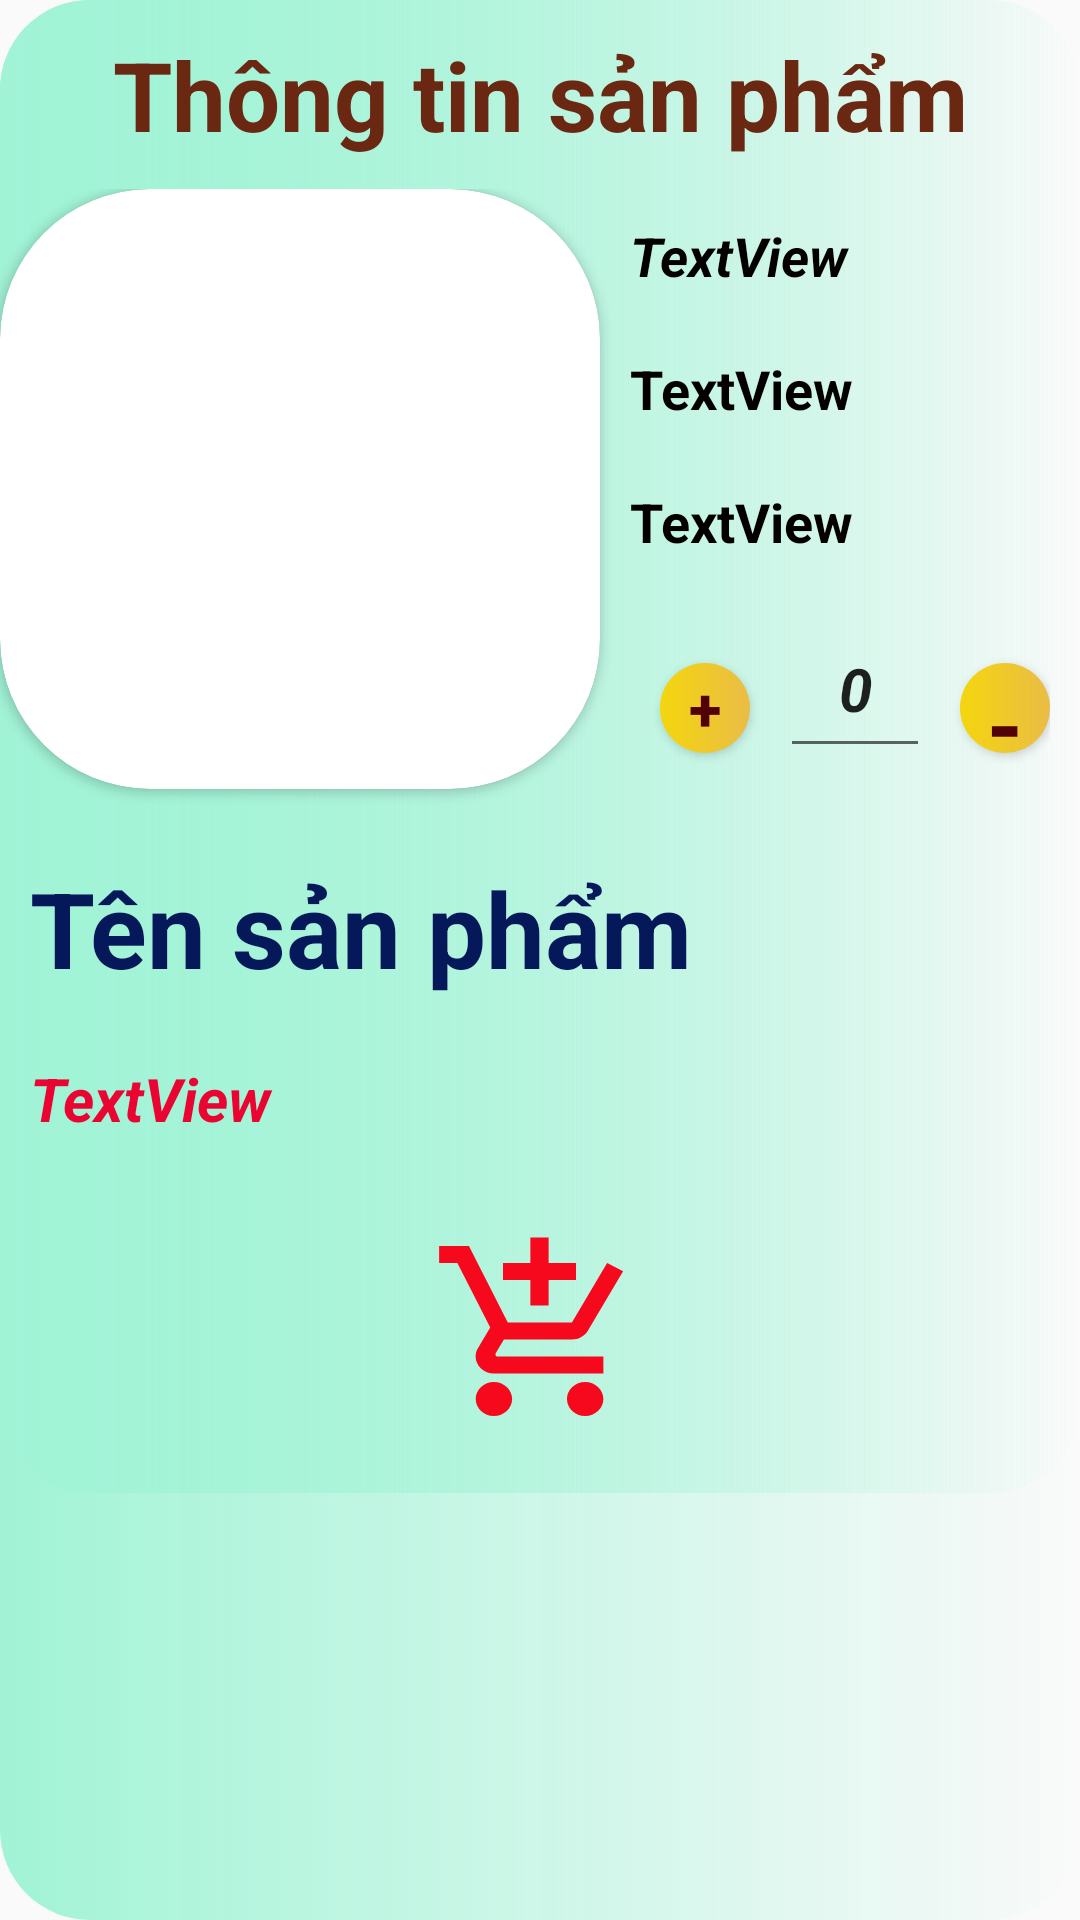

Where to tap for icons on this 1080px x 1920px app screen, as point (x, y):
add shopping cart: point (531, 1326)
